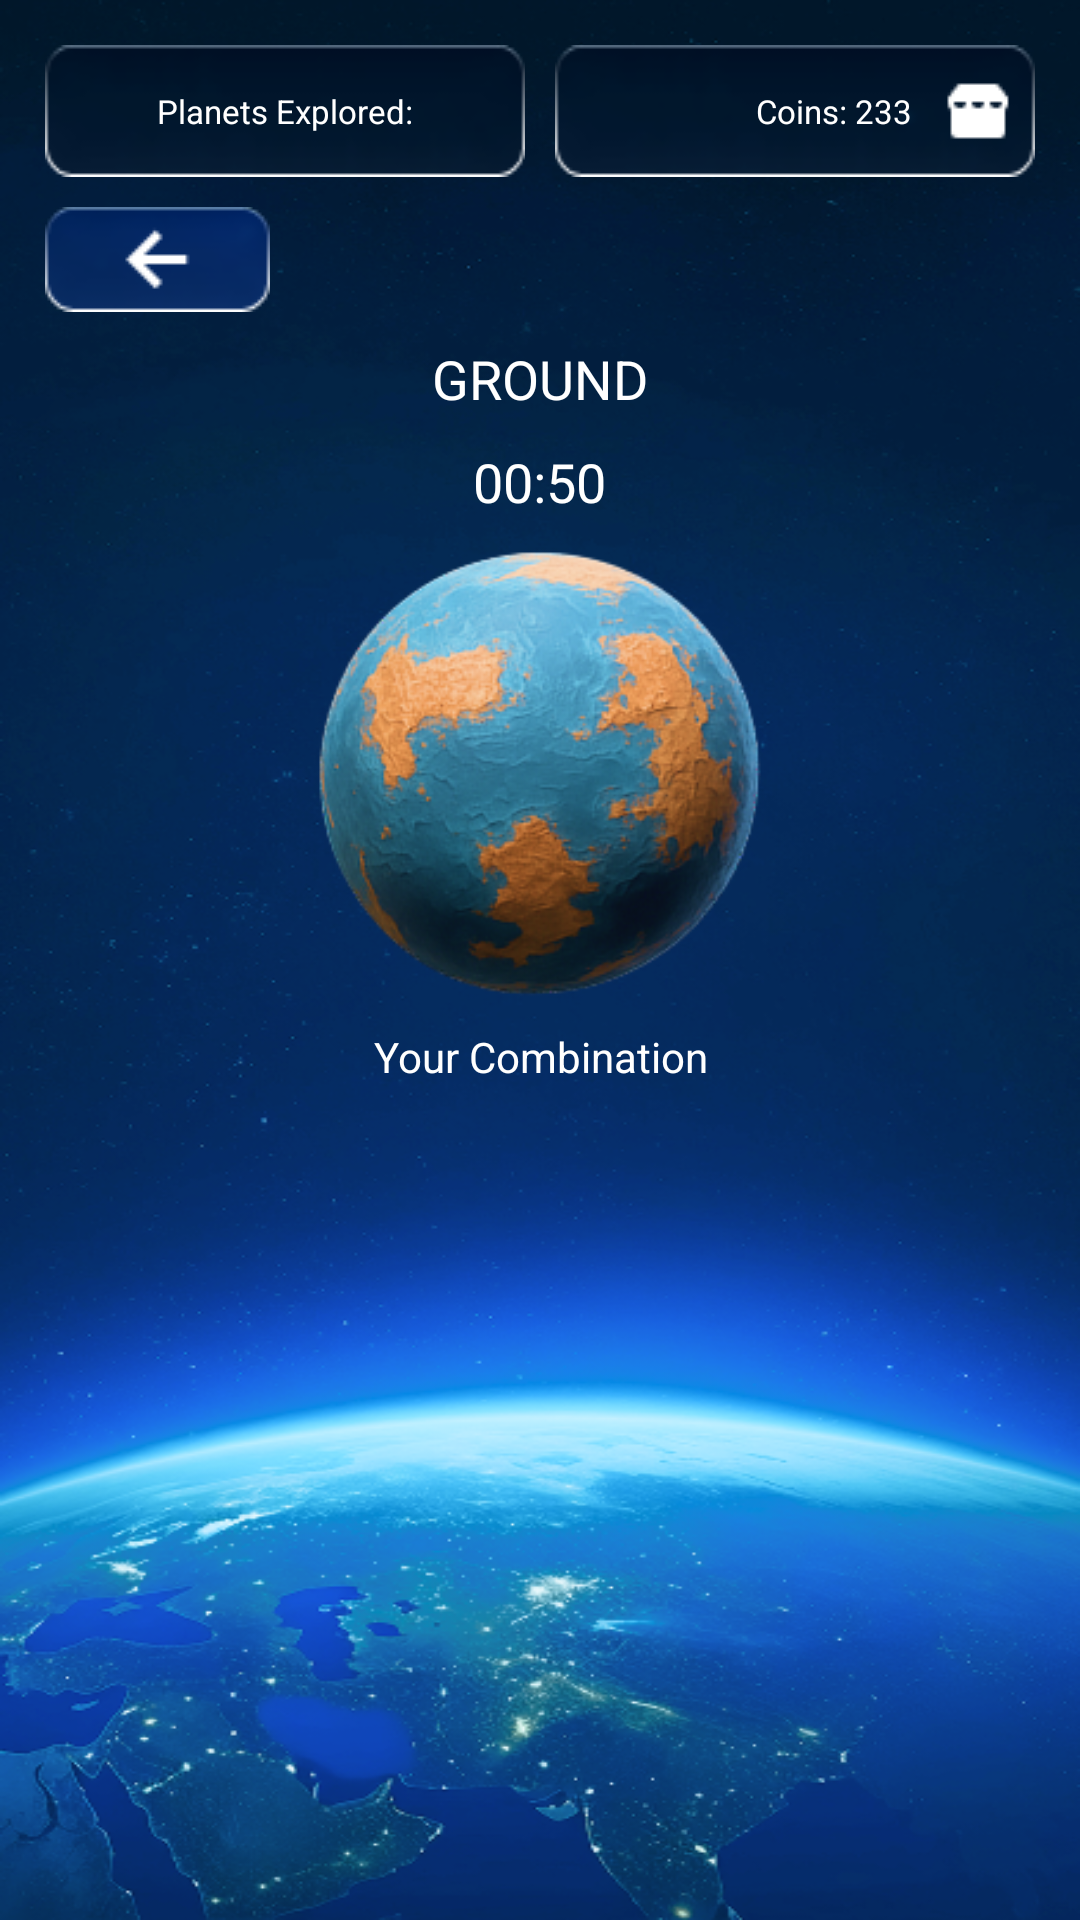

Screen size 1080px x 1920px. Icon name, then its center in pixels as (x=x, y=y):
back: (x=157, y=259)
